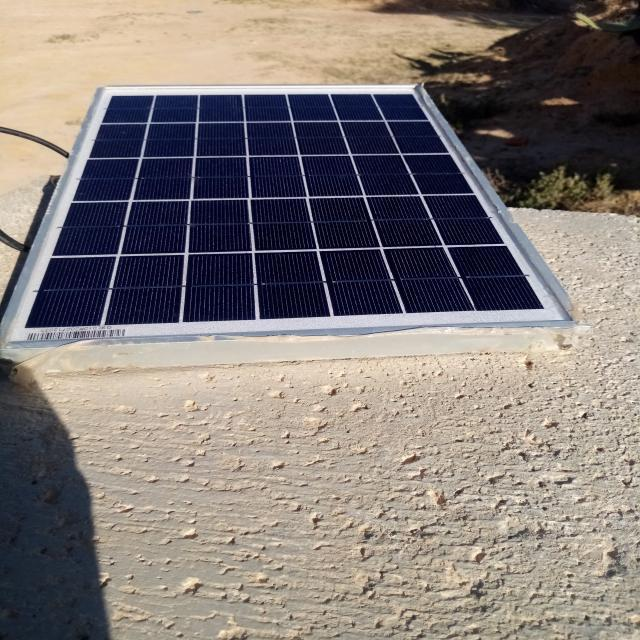no faulty: (4, 85, 576, 340)
